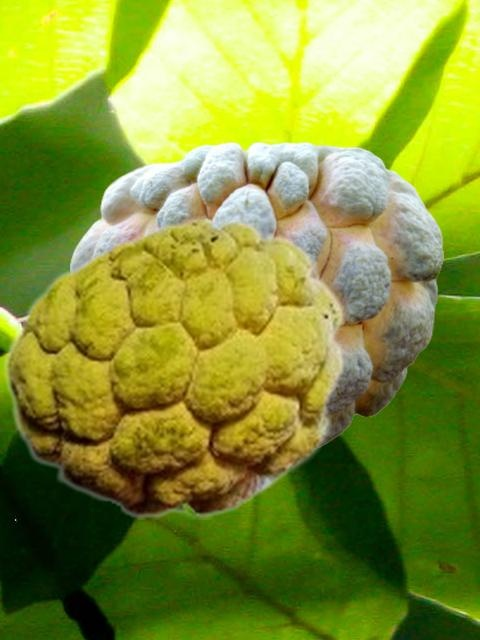atis: (70, 141, 442, 447), (2, 216, 345, 518)
